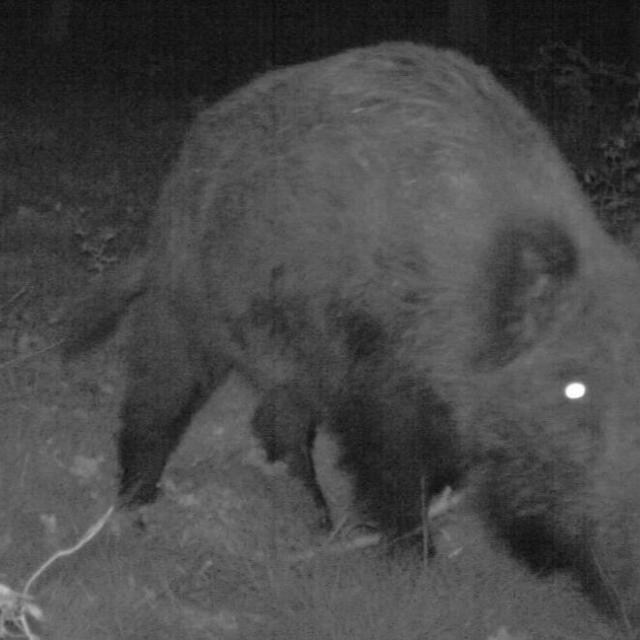pig: (124, 32, 640, 640)
